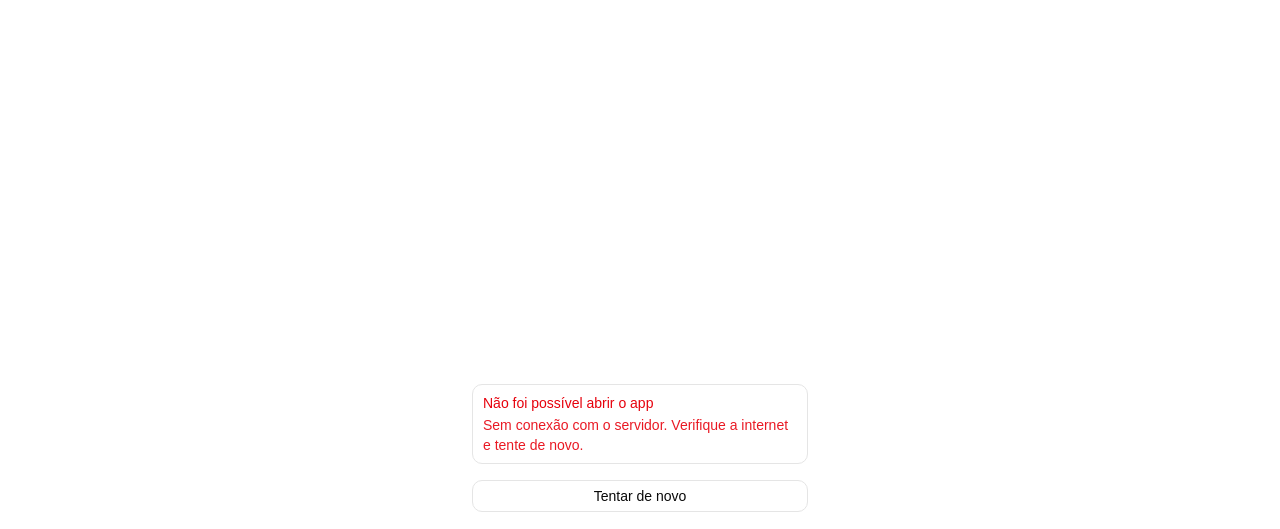
opening the app › explains a failure to reach the server and tries again
Expected: the text "Não foi possível abrir o app" is shown, [483,395,653,411]
Expected: the text "Sem conexão com o servidor. Verifique a internet e tente de novo." is shown, [483,415,797,455]
Step 1. Click the button "Tentar de novo" → (640,496), box [472,480,808,512]
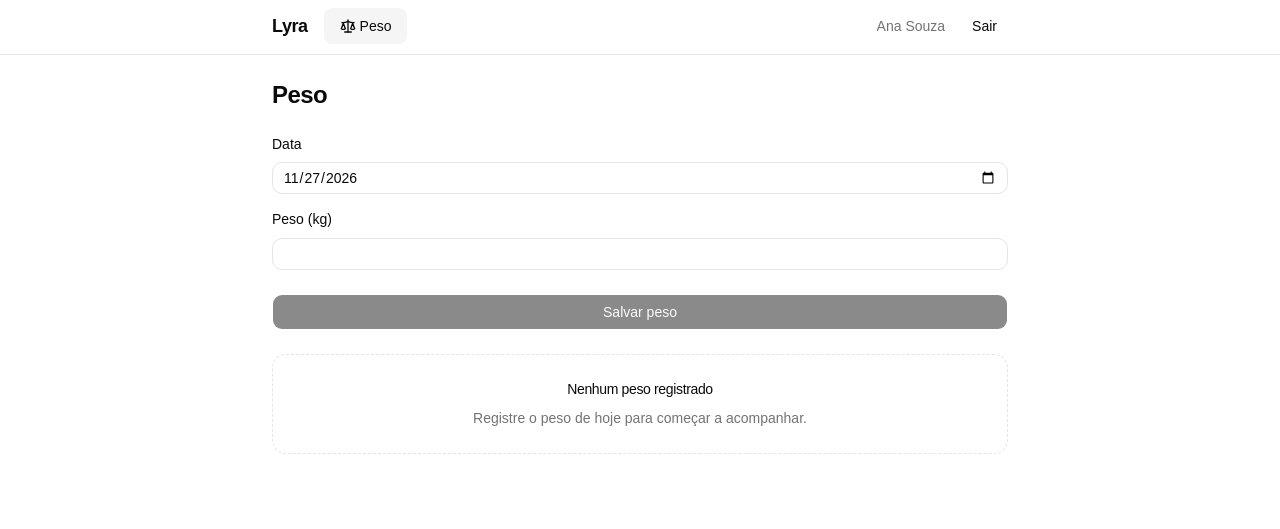
Expected: the text "Ana Souza" is shown, [877,16,945,36]
